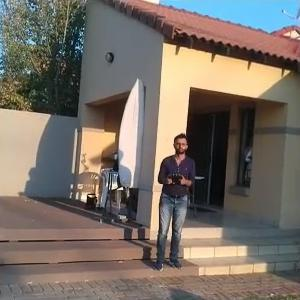follow: (150, 129, 196, 275)
